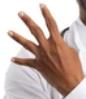right: (7, 2, 79, 89)
